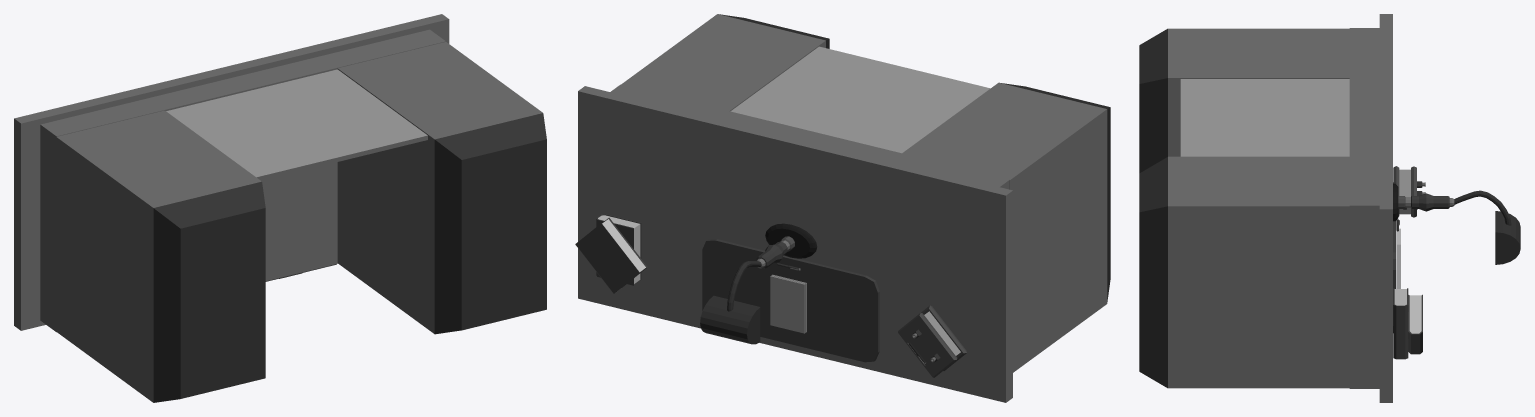
The model's file is StudyTableModel.fbx.
3 renders of one model, left to right at view 1: azimuth 30°, elevation 25°; view 2: azimuth 150°, elevation 25°; view 3: azimuth 270°, elevation 25°, orthographic. The views are drawn at different scales.
Visible parts, largest first — view 1: StudyTableModel; view 2: StudyTableModel; view 3: StudyTableModel.
Boxes of the visible parts, x1,y1,x2,y2 form: StudyTableModel: (14, 14, 546, 402); StudyTableModel: (575, 14, 1110, 402); StudyTableModel: (1139, 14, 1520, 402).
Size of the model in its own units: 214 by 100 by 176.
